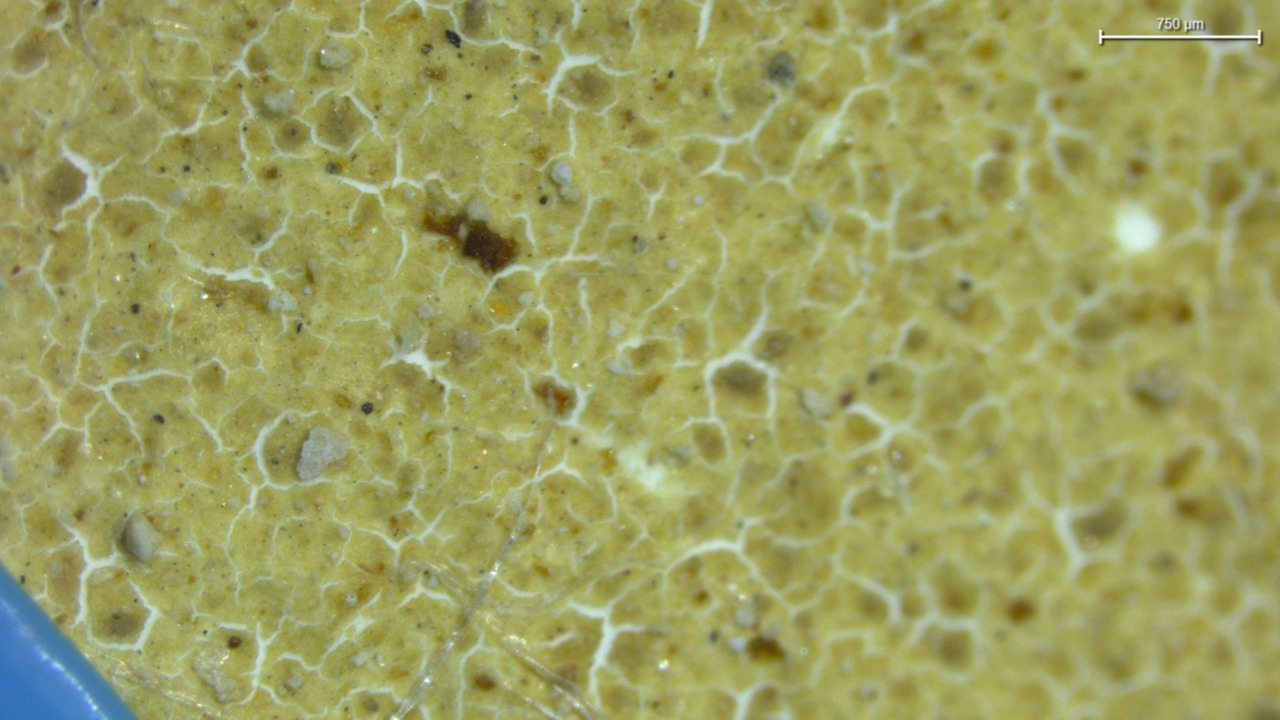microplastic_fragment: (296, 426, 347, 481), (123, 517, 157, 562), (318, 39, 354, 69)
